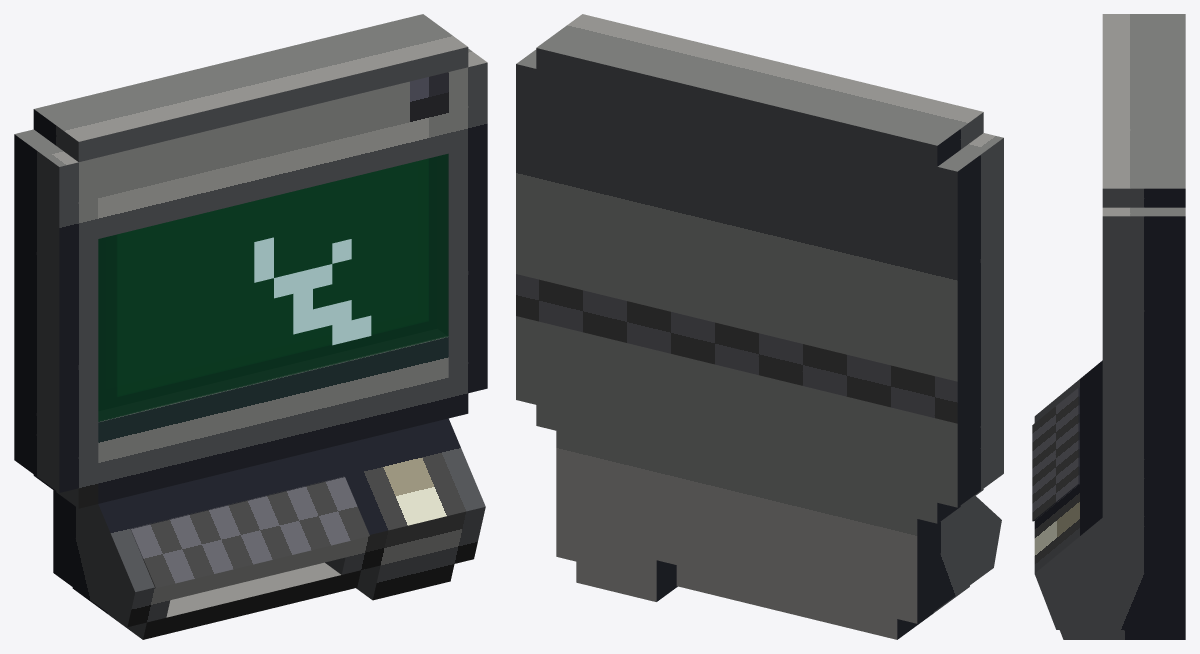
Rendered from newscaster_off_crack_1.glb.
The picture shows the model from 3 angles, left to right: view 1: azimuth 30°, elevation 25°; view 2: azimuth 150°, elevation 25°; view 3: azimuth 270°, elevation 25°; orthographic projection. The views are drawn at different scales.
Parts seen in each view (by area): view 1: Continuous_Housing, Recessed_Display_Glass, Keyboard_Panel, Damage_Overlay; view 2: Continuous_Housing; view 3: Continuous_Housing, Keyboard_Panel.
Boxes of the visible parts, x1,y1,x2,y2 form: Continuous_Housing: (14, 14, 487, 639); Recessed_Display_Glass: (98, 153, 448, 421); Keyboard_Panel: (130, 476, 369, 588); Damage_Overlay: (254, 237, 371, 345); Continuous_Housing: (516, 14, 1003, 639); Continuous_Housing: (1034, 14, 1185, 639); Keyboard_Panel: (1032, 387, 1079, 521).
Bounding box in the file's own units: 0.6188 × 0.7031 × 0.2081.
3 materials, 3 textured.
